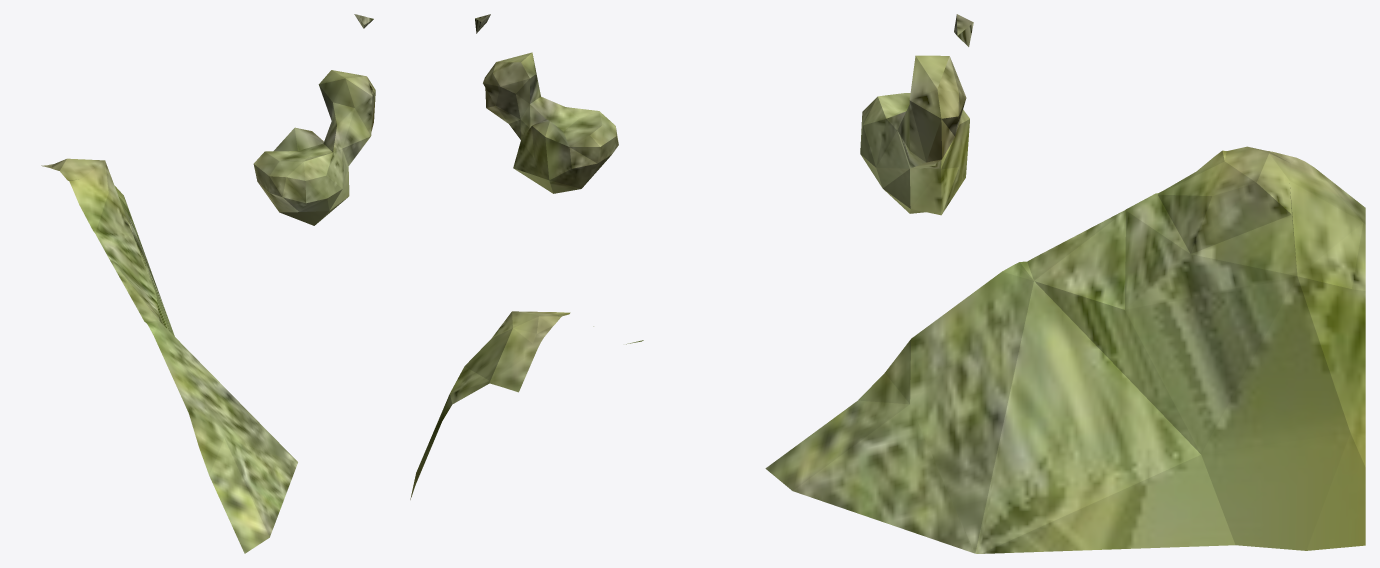
3 renders of one model, left to right at view 1: azimuth 30°, elevation 25°; view 2: azimuth 150°, elevation 25°; view 3: azimuth 270°, elevation 25°, orthographic. The views are drawn at different scales.
Bounding box in the file's own units: 0.7504 × 1.55 × 1.47.
1 material, 1 textured.
